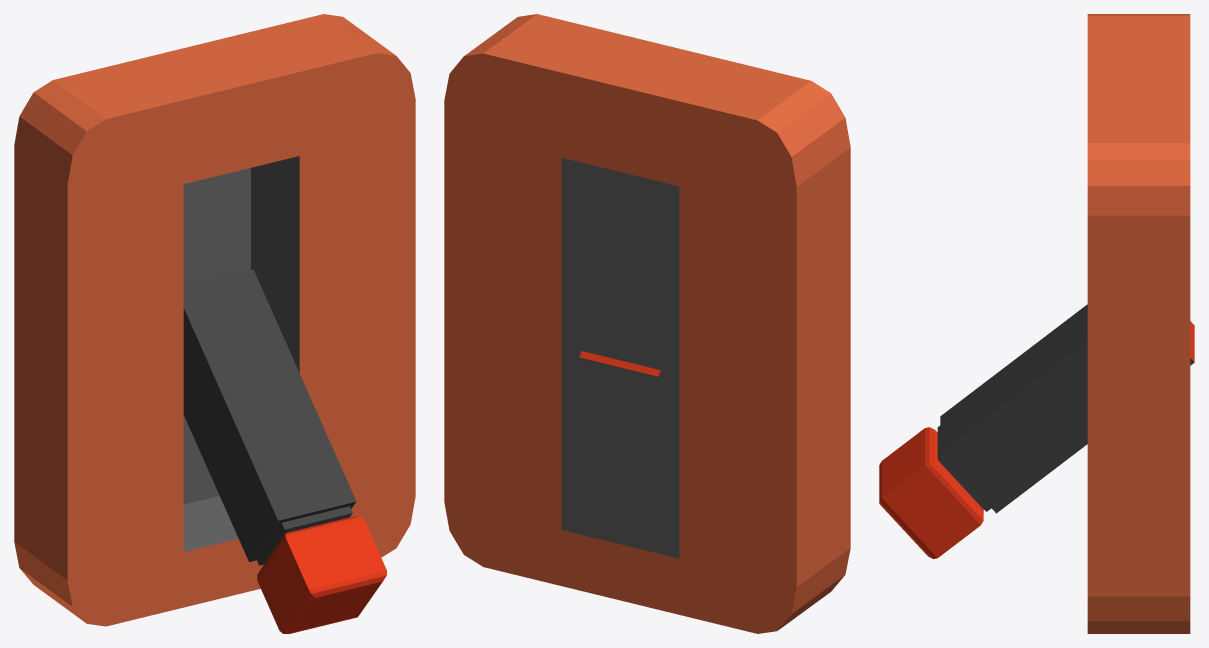
Rendered from palanca.fbx.
3 renders of one model, left to right at view 1: azimuth 30°, elevation 25°; view 2: azimuth 150°, elevation 25°; view 3: azimuth 270°, elevation 25°, orthographic. The views are drawn at different scales.
Parts seen in each view (by area): view 1: Cube.001, Cube.002; view 2: Cube.001, Cube.002; view 3: Cube.001, Cube.002.
Boxes of the visible parts, x1=… form: Cube.001: x1=14, y1=14, x2=415, y2=626; Cube.002: x1=183, y1=269, x2=386, y2=633; Cube.001: x1=444, y1=14, x2=850, y2=633; Cube.002: x1=579, y1=351, x2=660, y2=378; Cube.001: x1=1087, y1=14, x2=1190, y2=633; Cube.002: x1=879, y1=304, x2=1194, y2=558.
Bounding box in the file's own units: 39 × 54.29 × 31.76.
